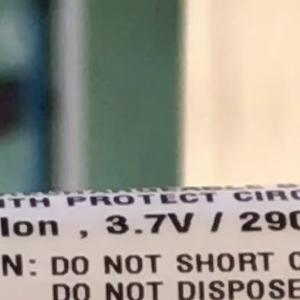keyword: (96, 203, 199, 244)
